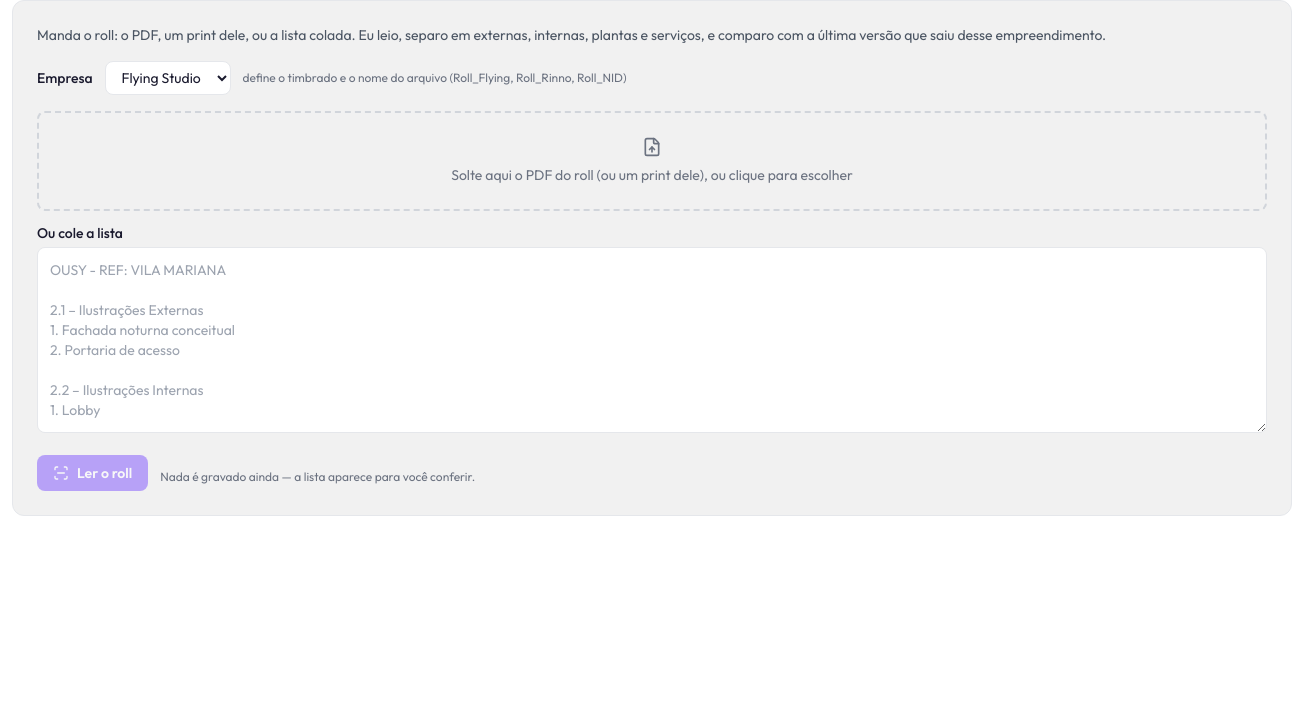
it: RollAba › sem cliente o botão de gerar fica travado, e explica por quê
Replace the text in the text box labelled "Ou cole a lista" with "x" at (652, 340), box [37, 247, 1267, 433]
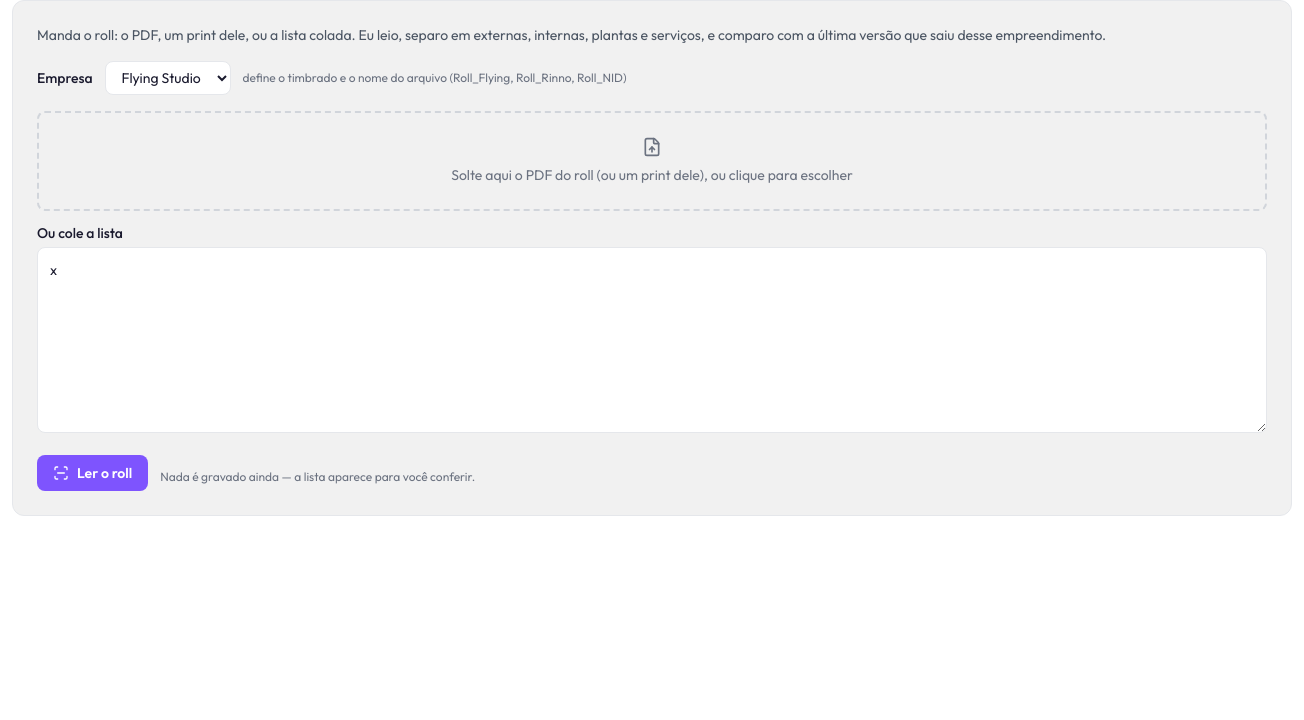
Click the button "Ler o roll".
click(93, 473)  # box [37, 455, 148, 491]
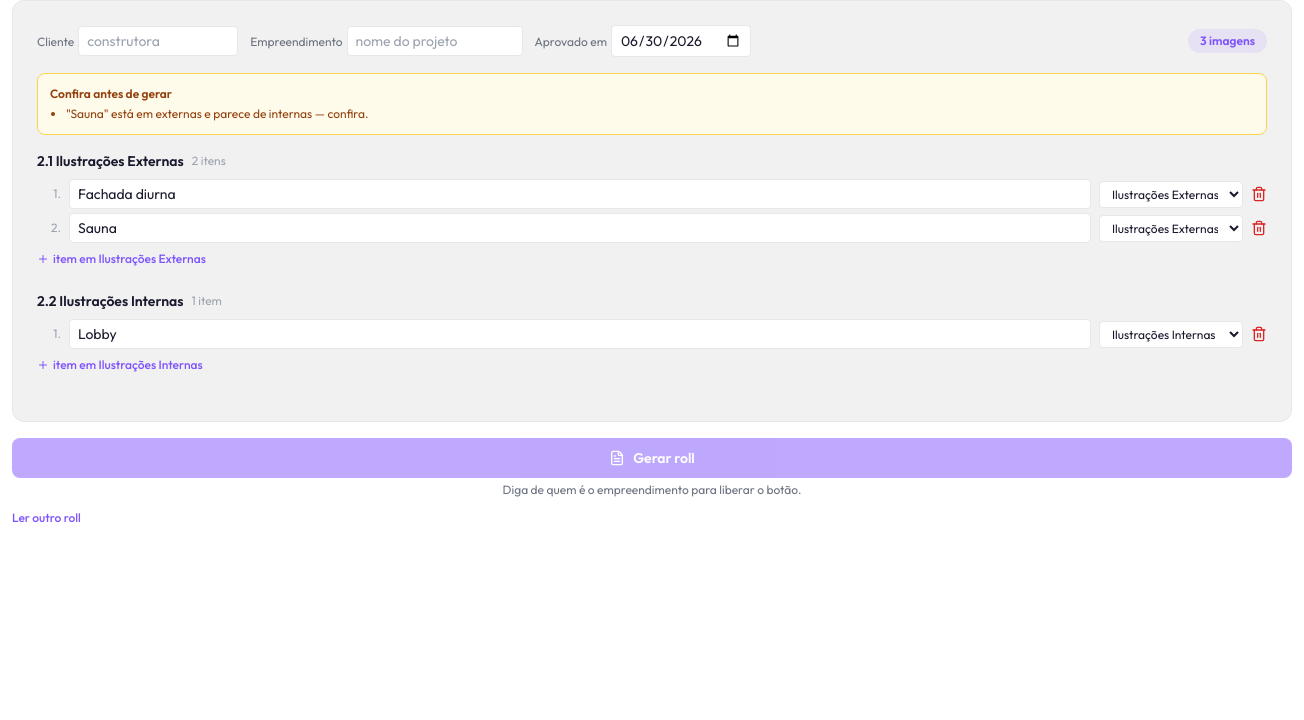
Result: the button "Gerar roll" is disabled at [12, 438, 1292, 478]
Result: the text "Diga de quem é o empreendimento para liberar o botão." is shown at [503, 482, 801, 497]
